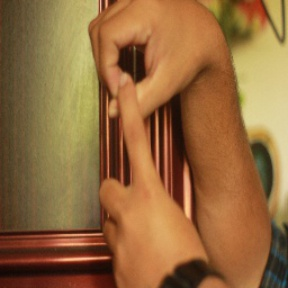Q: (88, 2, 226, 259)
